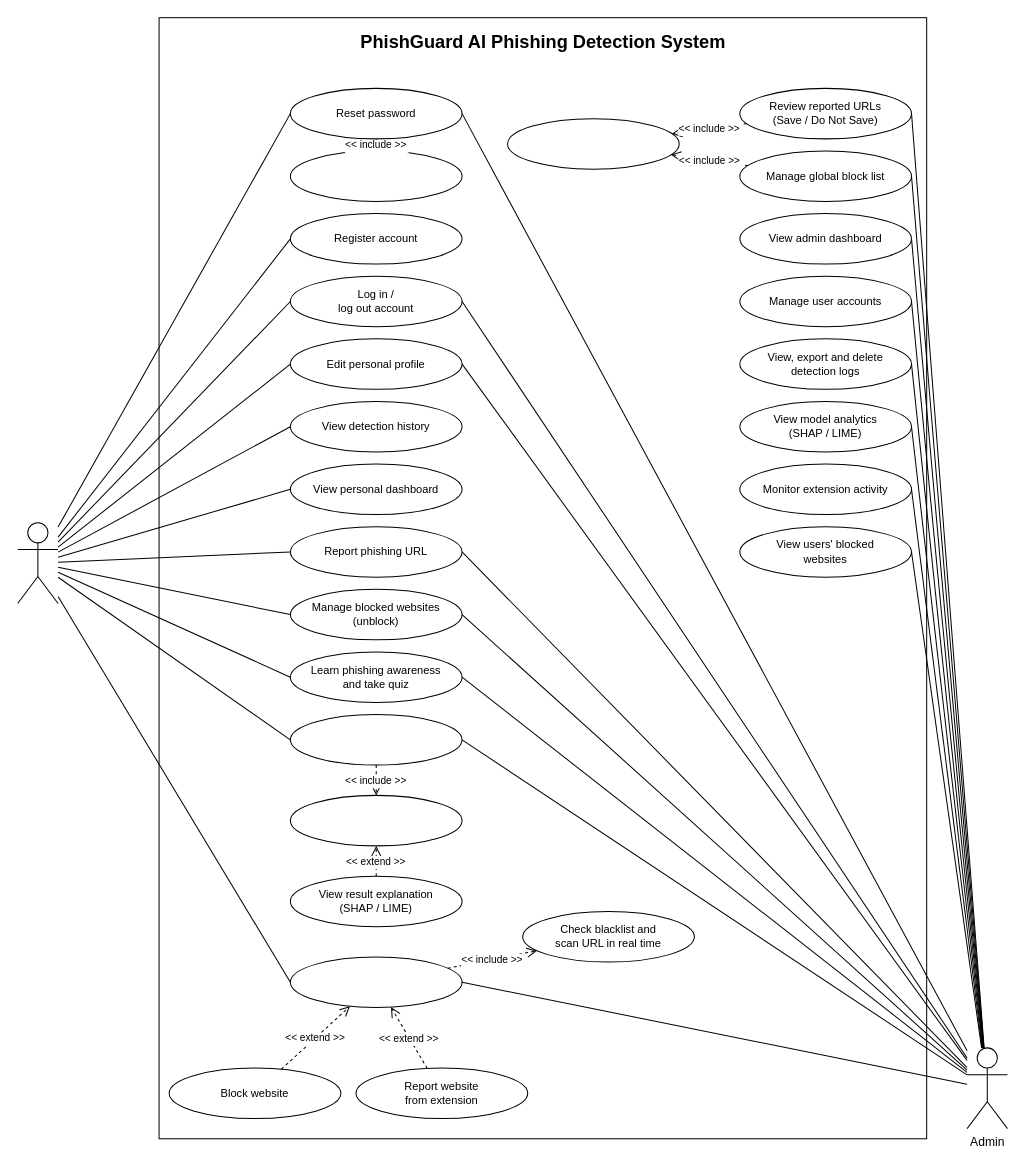
Image size: 1025x1168. Some labels were removed from this diagram. The centre of each missing label's shape, as x and y in pixels:
"Add domain to blacklist" goes at [593,143].
"Analyse URL" goes at [375,739].
"Browse websites with Chrome extension" goes at [375,981].
"Extract URL features and predict phishing probability" goes at [375,820].
"Receive 6-digit reset code by email" goes at [375,175].
"User" goes at [37,562].
